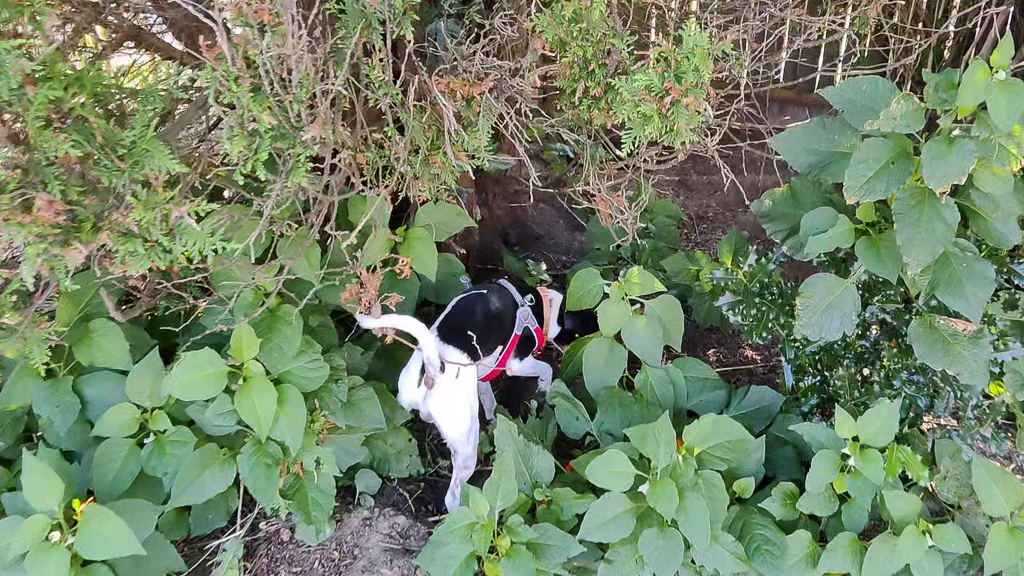Dog: (340, 262, 641, 537)
